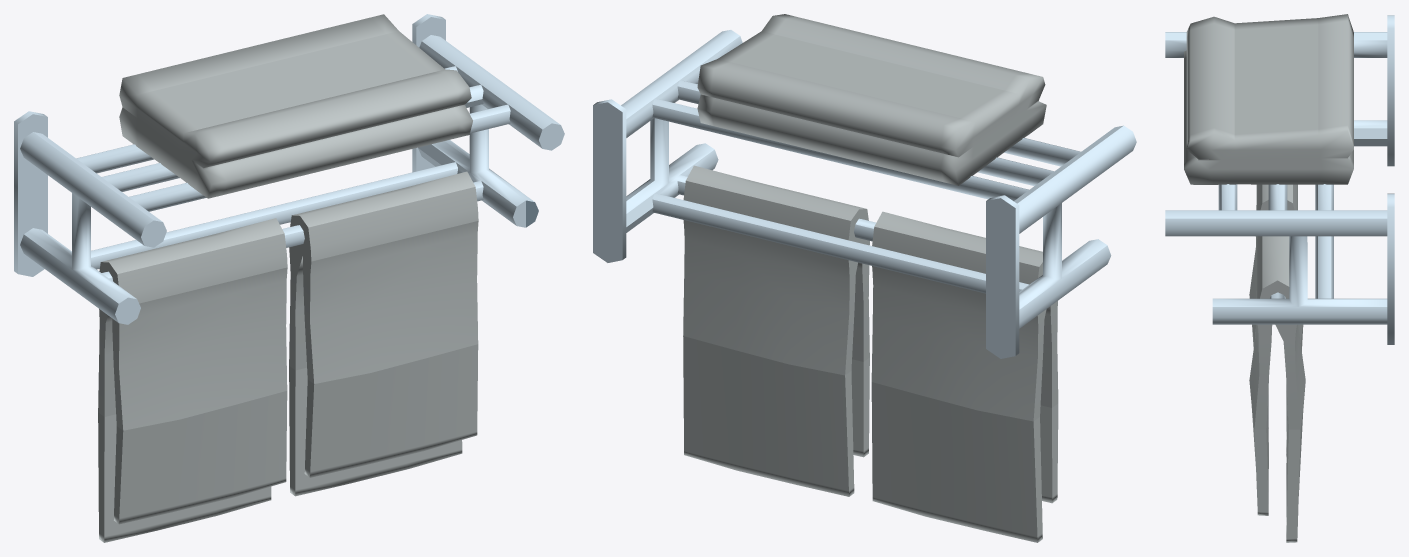
File: TowelRack-Bathroom-Hotel_01.fbx
3 renders of one model, left to right at view 1: azimuth 30°, elevation 25°; view 2: azimuth 150°, elevation 25°; view 3: azimuth 270°, elevation 25°, orthographic. The views are drawn at different scales.
Visible parts, largest first — view 1: TowelRack_Combined; view 2: TowelRack_Combined; view 3: TowelRack_Combined.
Part boxes in pixels (<box>): TowelRack_Combined: <box>14,14,564,542</box>; TowelRack_Combined: <box>593,14,1136,542</box>; TowelRack_Combined: <box>1165,14,1394,542</box>.
Bounding box in the file's own units: 0.9272 × 0.8872 × 0.4685.
